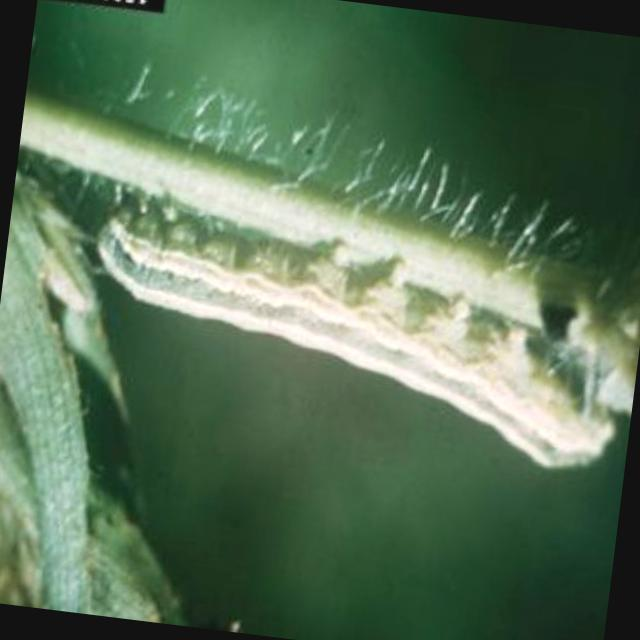Beet armyworm: (59, 135, 640, 507)
